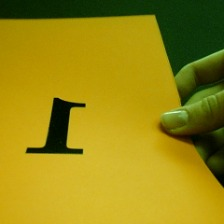orange1: (21, 93, 93, 158)
